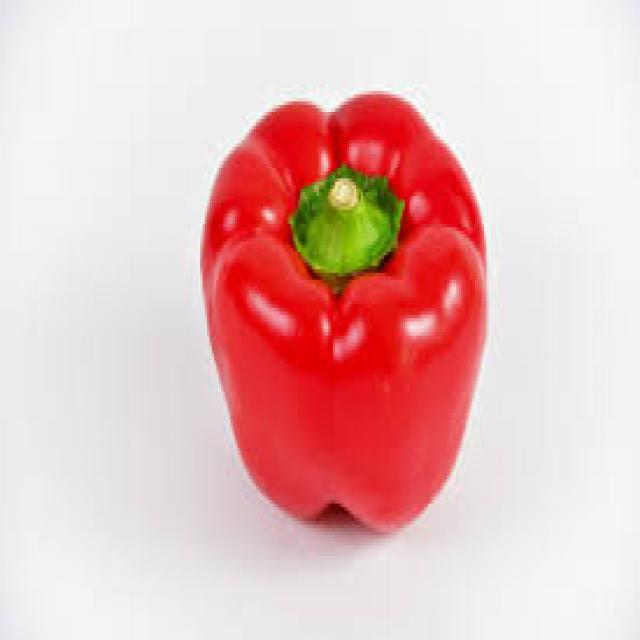organic waste: (198, 88, 484, 535)
